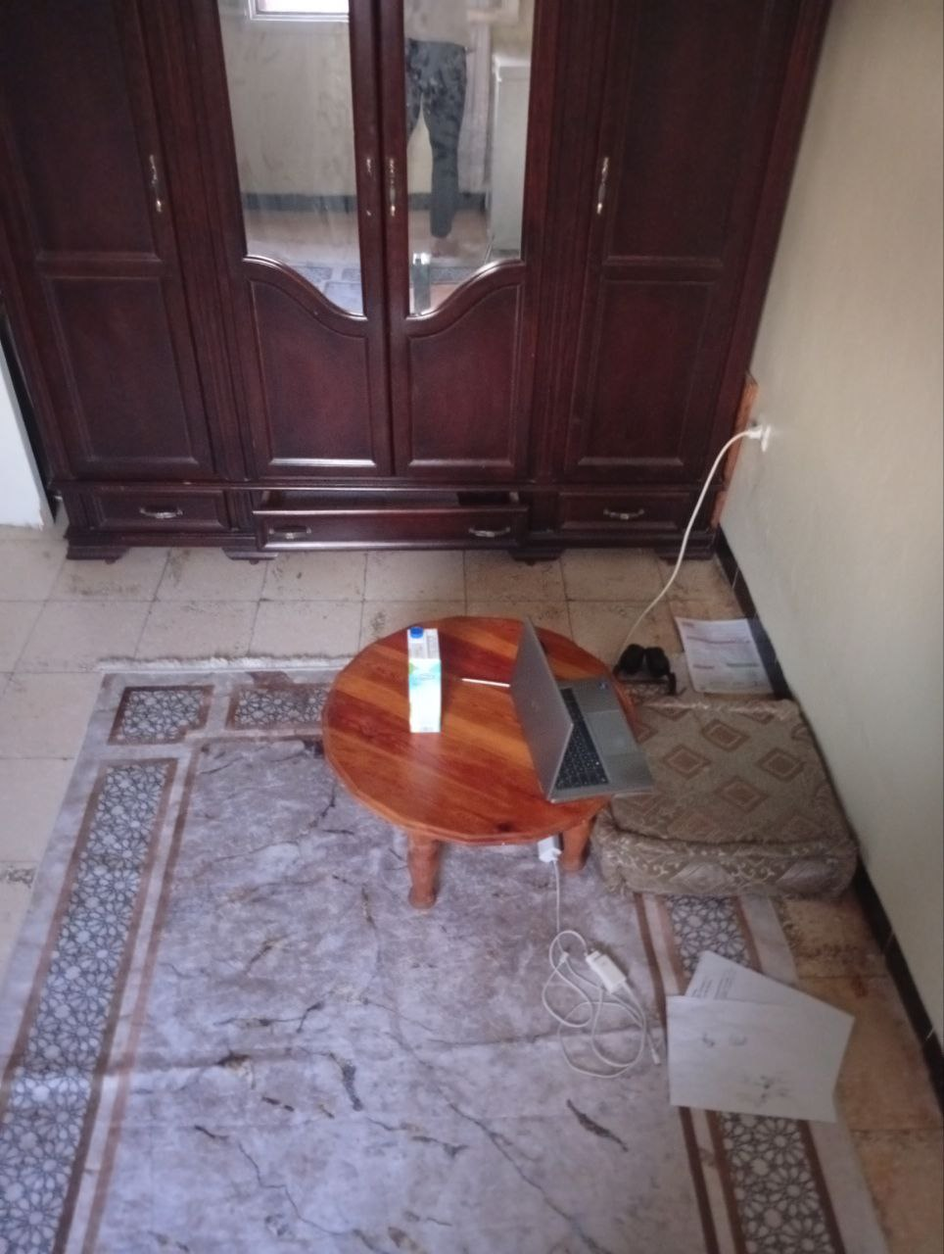soummam_milk: (396, 620, 460, 748)
